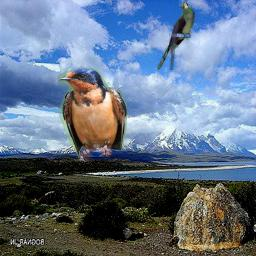Cuckoo: (155, 2, 195, 70)
Swallow: (58, 67, 127, 162)
